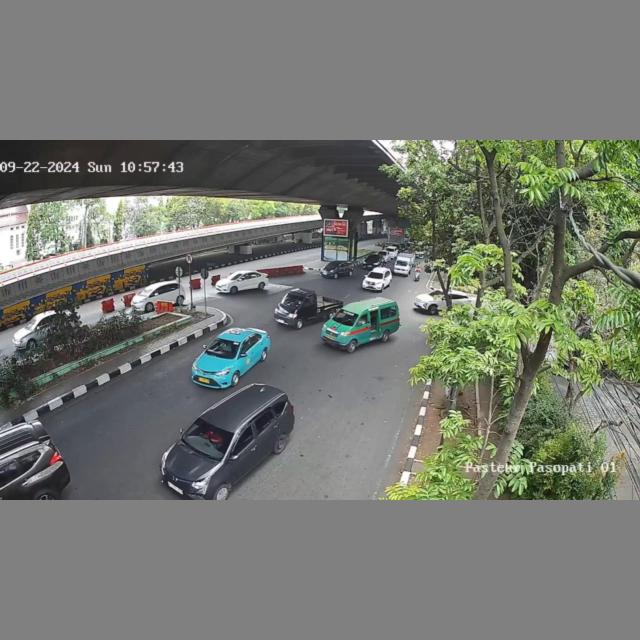windshield: (182, 420, 232, 455), (205, 339, 240, 357), (334, 310, 357, 324), (282, 294, 302, 309)
